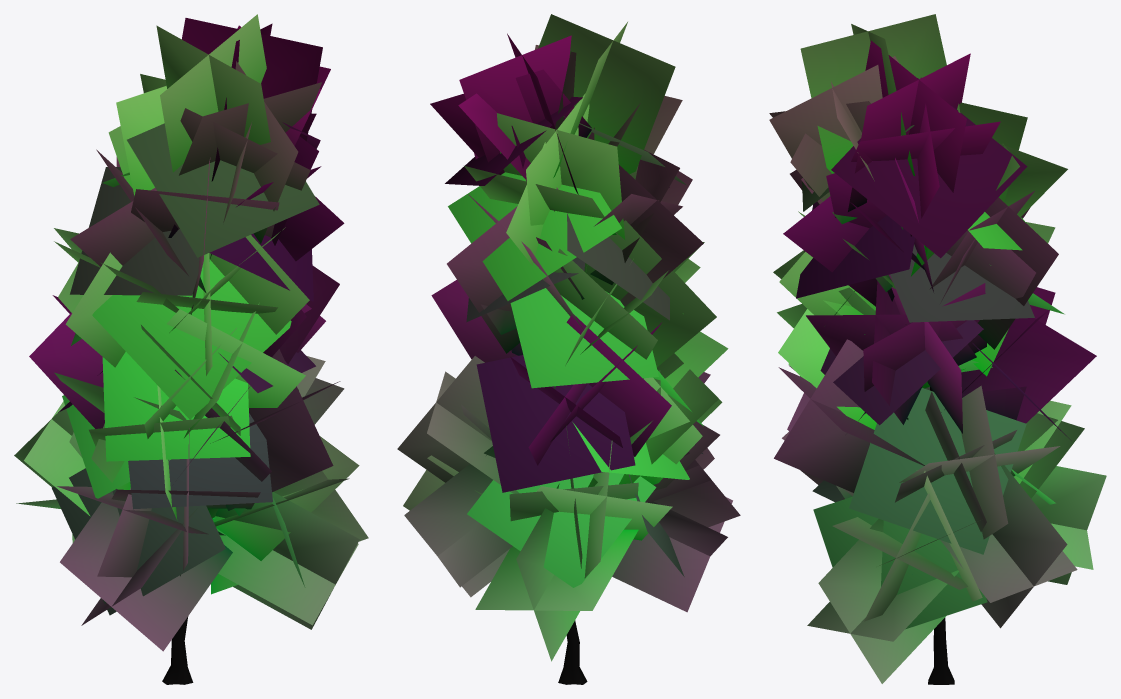
The model's file is M_P1_Tree_5.fbx.
3 views of the same model, side by side, from view 1: azimuth 30°, elevation 25°; view 2: azimuth 150°, elevation 25°; view 3: azimuth 270°, elevation 25° (orthographic). The views are drawn at different scales.
Visible parts, largest first — view 1: M_Tree_1_5; view 2: M_Tree_1_5; view 3: M_Tree_1_5.
Part boxes in pixels (x1,y1,x2,y2): M_Tree_1_5: (14, 14, 368, 684); M_Tree_1_5: (397, 14, 740, 684); M_Tree_1_5: (769, 14, 1106, 684).
Size of the model in its own units: 663 by 1417 by 651.
